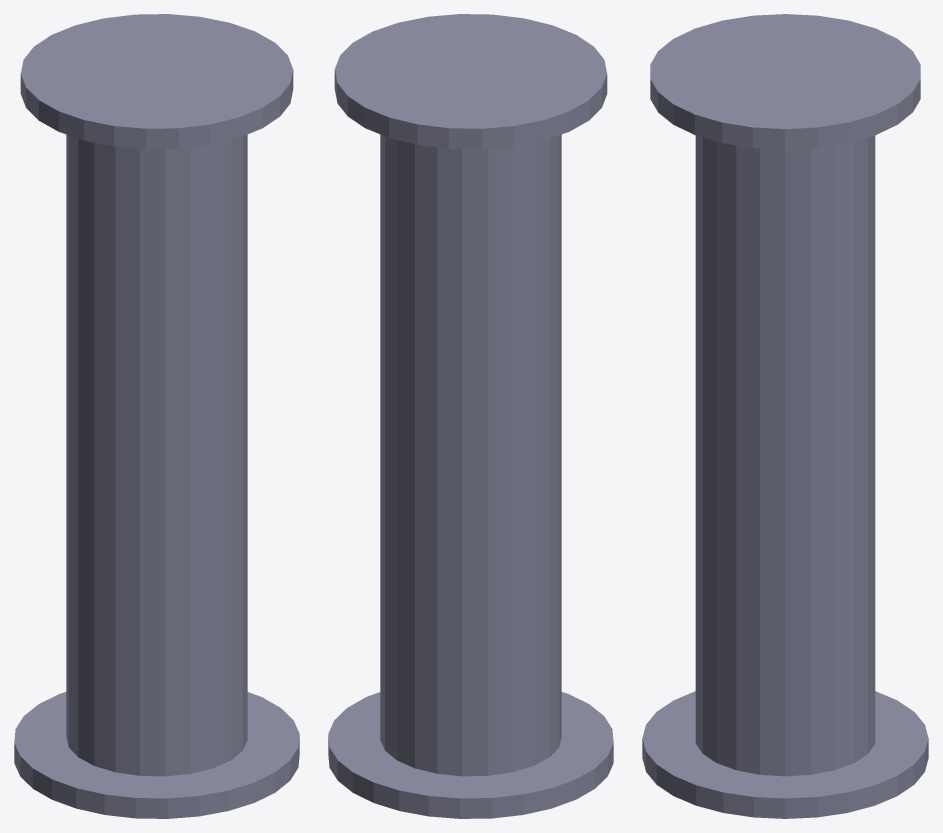
Rendered from OuterShaft.dae.
3 views of the same model, side by side, from view 1: azimuth 30°, elevation 25°; view 2: azimuth 150°, elevation 25°; view 3: azimuth 270°, elevation 25° (orthographic).
Visible parts, largest first — view 1: node0; view 2: node0; view 3: node0.
Boxes of the visible parts, x1,y1,x2,y2 form: node0: [14, 14, 299, 818]; node0: [328, 14, 613, 818]; node0: [642, 14, 928, 818].
Size of the model in its own units: 0.04 by 0.04 by 0.106.
